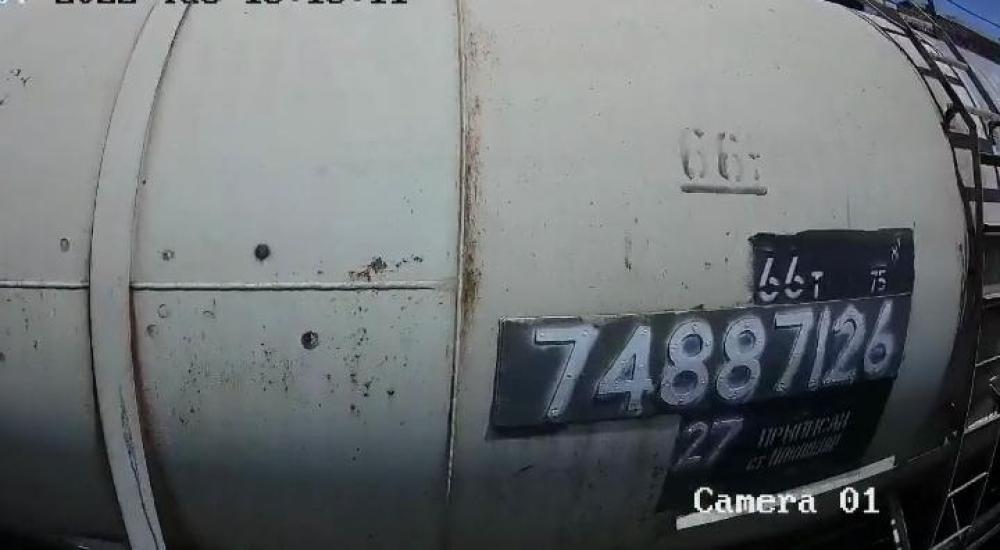Wagon-number: (520, 294, 906, 428)
